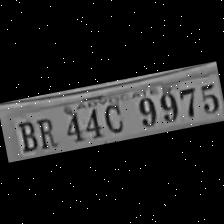4: (57, 105, 84, 145), (78, 102, 104, 142)
5: (195, 78, 222, 116)
7: (174, 84, 200, 120)
9: (130, 90, 159, 130), (154, 86, 180, 124)
B: (12, 117, 40, 153)
C: (97, 97, 127, 137)
R: (32, 112, 59, 150)
